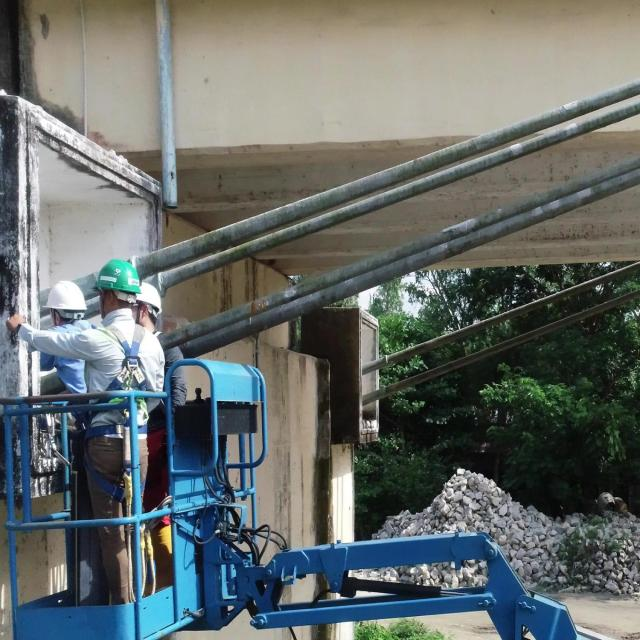corrosion: (258, 300, 266, 310), (250, 301, 256, 314), (183, 329, 189, 338)
